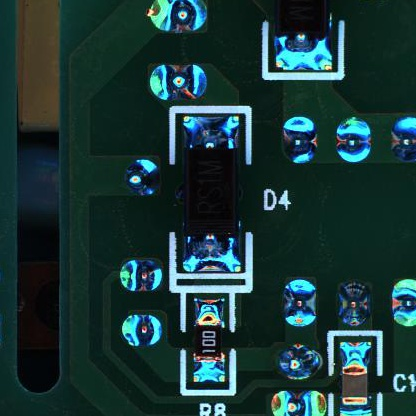spot: (148, 63, 208, 102), (145, 1, 210, 35), (281, 115, 320, 165), (336, 112, 371, 166), (281, 279, 319, 328), (276, 344, 322, 380), (117, 258, 163, 293), (118, 313, 164, 346), (268, 390, 326, 416), (338, 282, 369, 326), (124, 158, 158, 198), (388, 116, 416, 161), (390, 279, 416, 327)
